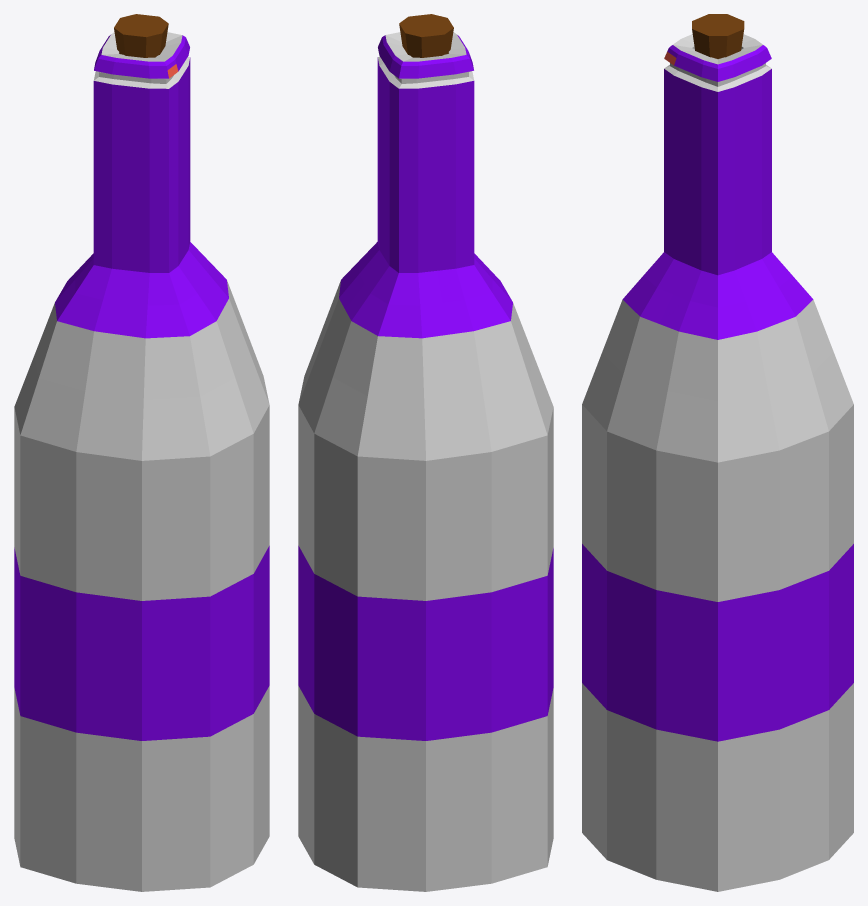
Rendered from Bottle_Purple.fbx.
The picture shows the model from 3 angles, left to right: view 1: azimuth 30°, elevation 25°; view 2: azimuth 150°, elevation 25°; view 3: azimuth 270°, elevation 25°; orthographic projection.
Visible parts, largest first — view 1: Bottle-3; view 2: Bottle-3; view 3: Bottle-3.
Boxes of the visible parts, x1=… form: Bottle-3: x1=14, y1=14, x2=269, y2=891; Bottle-3: x1=298, y1=14, x2=553, y2=891; Bottle-3: x1=582, y1=14, x2=853, y2=891.
Size of the model in its own units: 4.45 by 14.21 by 4.34.
